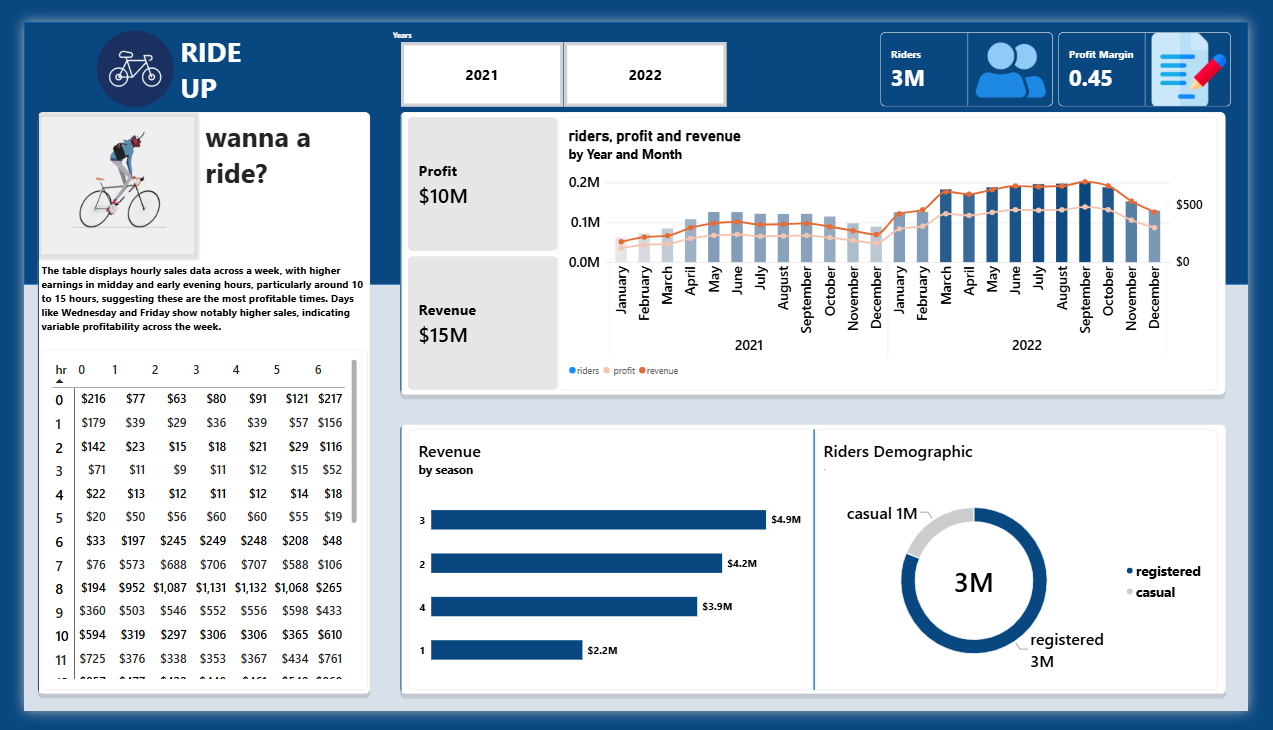

What the dashboard file says about the page in this screenshot:
{"tool":"powerbi","page":{"name":"Page 1","canvas":[1920,1080],"ordinal":0},"visuals":[{"type":"shape","box":[0,0,1920.4,411.7],"z":0},{"type":"cardVisual","fields":{"Data":["Min(Query.riders)"]},"box":[14.5,133.9,537.5,928.4],"z":1000},{"type":"cardVisual","fields":{"Data":["Min(Query.riders)"]},"box":[582.7,133.9,1310.2,459.7],"z":2000},{"type":"cardVisual","fields":{"Data":["Min(Query.riders)"]},"box":[582.5,623.7,1311.2,438.4],"z":3000},{"type":"image","box":[27.1,148.4,238.9,215.3],"z":4000},{"type":"pivotTable","fields":{"Columns":["Query.weekday"],"Rows":["Query.hr"],"Values":["Avg(Query.revenue)"]},"box":[27.1,513.9,512.1,533.8],"z":5000},{"type":"textbox","box":[27.1,378.2,512.1,135.7],"z":6000},{"type":"textbox","box":[284.1,148.4,242.5,229.8],"z":7000},{"type":"lineClusteredColumnComboChart","fields":{"Category":["Query.dteday.Variation.Date Hierarchy.Year","Query.dteday.Variation.Date Hierarchy.Month","Query.dteday.Variation.Date Hierarchy.Day"],"Y":["Sum(Query.riders)"],"Y2":["Avg(Query.profit)","Avg(Query.revenue)"]},"box":[837.9,148.4,1035.1,428.9],"z":8000},{"type":"clusteredBarChart","fields":{"Category":["Query.season"],"Y":["Sum(Query.revenue)"]},"box":[602.6,638.8,635.2,409],"z":9000},{"type":"donutChart","title":"Riders Demographic ","fields":{"Category":["Query.rider_type"],"Y":["Sum(Query.riders)"]},"box":[1237.8,638.8,635.2,409],"z":10000},{"type":"shape","box":[1089.4,638.8,298.6,409],"z":11000},{"type":"cardVisual","fields":{"Data":["Sum(Query.profit)","Sum(Query.revenue)"]},"box":[602.6,148.4,235.3,428.9],"z":12000},{"type":"cardVisual","fields":{"Data":["Sum(Query.riders)","Query.Profit Margin"]},"box":[1342.8,16.3,551.9,117.6],"z":13000},{"type":"image","box":[0,10.9,349.3,123.1],"z":13001},{"type":"textbox","box":[244.3,16.3,191.8,117.6],"z":13002},{"type":"slicer","fields":{"Values":["Query.Years"]},"box":[570,10.9,550.1,123.1],"z":13003}]}

Visuals, with their boxes in screenshot pixels (x1, y1, x2, y2), scaled from the page's 1920x1080 canvas onto the 1273x730 screenshot:
shape: (0,0,1272,278)
cardVisual - Min(Query.riders): (10,91,366,718)
cardVisual - Min(Query.riders): (386,91,1255,401)
cardVisual - Min(Query.riders): (386,422,1256,718)
image: (18,100,176,246)
pivotTable - Query.weekday x Query.hr: (18,347,358,708)
textbox: (18,256,358,347)
textbox: (188,100,349,256)
lineClusteredColumnComboChart - Query.dteday.Variation.Date Hierarchy.Year x Query.dteday.Variation.Date Hierarchy.Month: (556,100,1242,390)
clusteredBarChart - Query.season x Sum(Query.revenue): (400,432,821,708)
"Riders Demographic " donutChart: (821,432,1242,708)
shape: (722,432,920,708)
cardVisual - Sum(Query.profit) x Sum(Query.revenue): (400,100,556,390)
cardVisual - Sum(Query.riders) x Query.Profit Margin: (890,11,1256,91)
image: (0,7,232,91)
textbox: (162,11,289,91)
slicer - Query.Years: (378,7,743,91)
